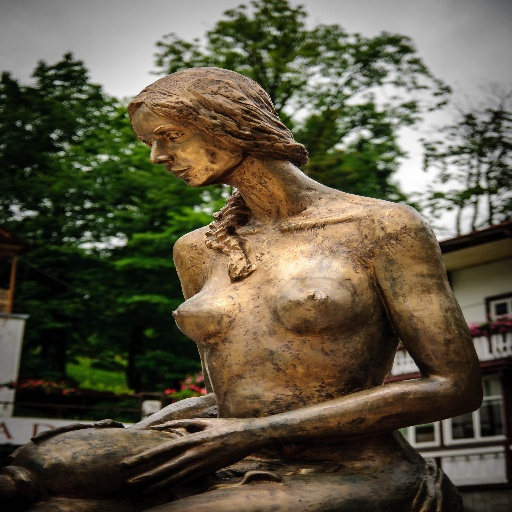hand: (119, 418, 266, 485), (30, 418, 131, 445)
